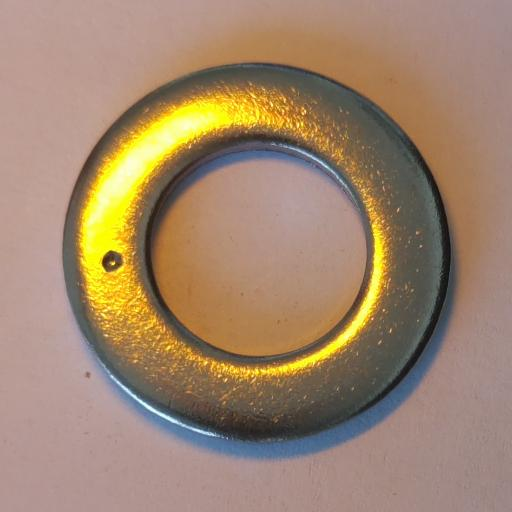circular_cavity: (101, 250, 122, 273)
